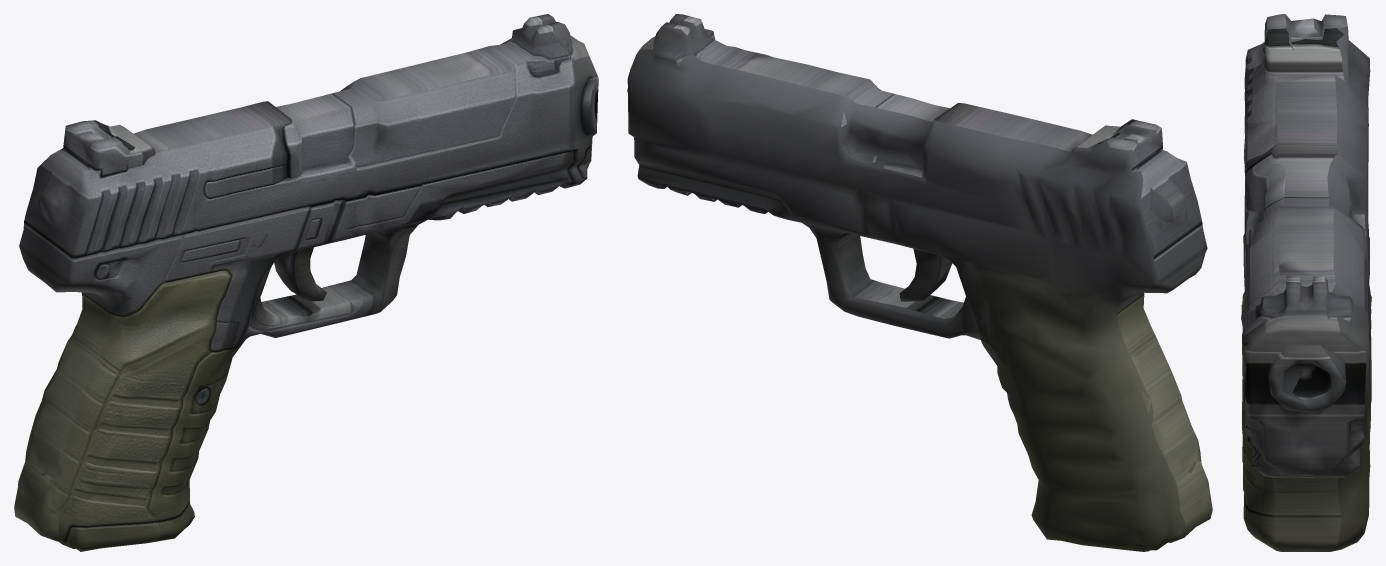
The model's file is pistol.glb.
3 renders of one model, left to right at view 1: azimuth 30°, elevation 25°; view 2: azimuth 150°, elevation 25°; view 3: azimuth 270°, elevation 25°, orthographic. The views are drawn at different scales.
Parts seen in each view (by area): view 1: pistol; view 2: pistol; view 3: pistol.
Boxes of the visible parts, <box> form: pistol: <box>14,14,598,551</box>; pistol: <box>627,14,1212,551</box>; pistol: <box>1241,14,1371,551</box>.
Bounding box in the file's own units: 0.45 × 0.3162 × 0.0769.
Materials: 1 (1 with a texture image).
